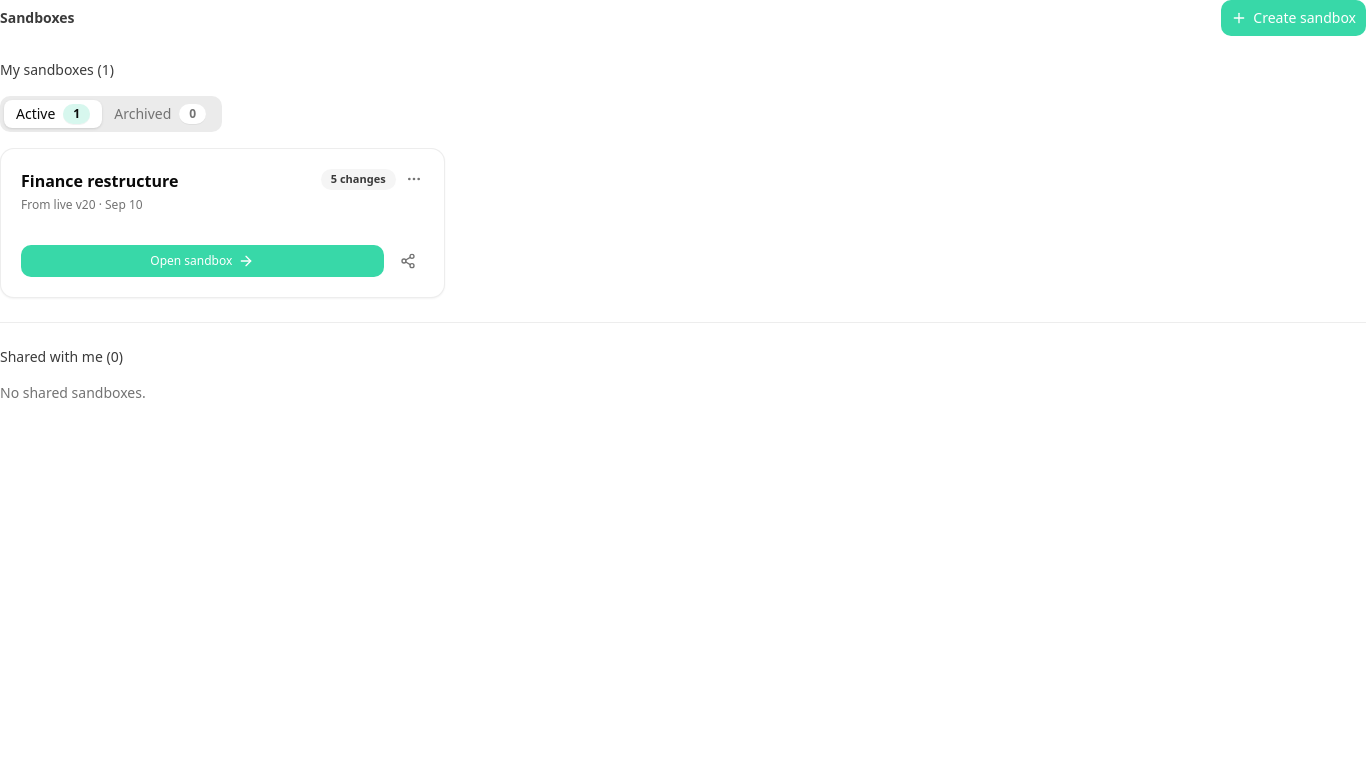
sandbox sharing › contains a transient access-loading failure and retries in place
Click the button named "Share Finance restructure": (408, 261) [392,245,424,277]
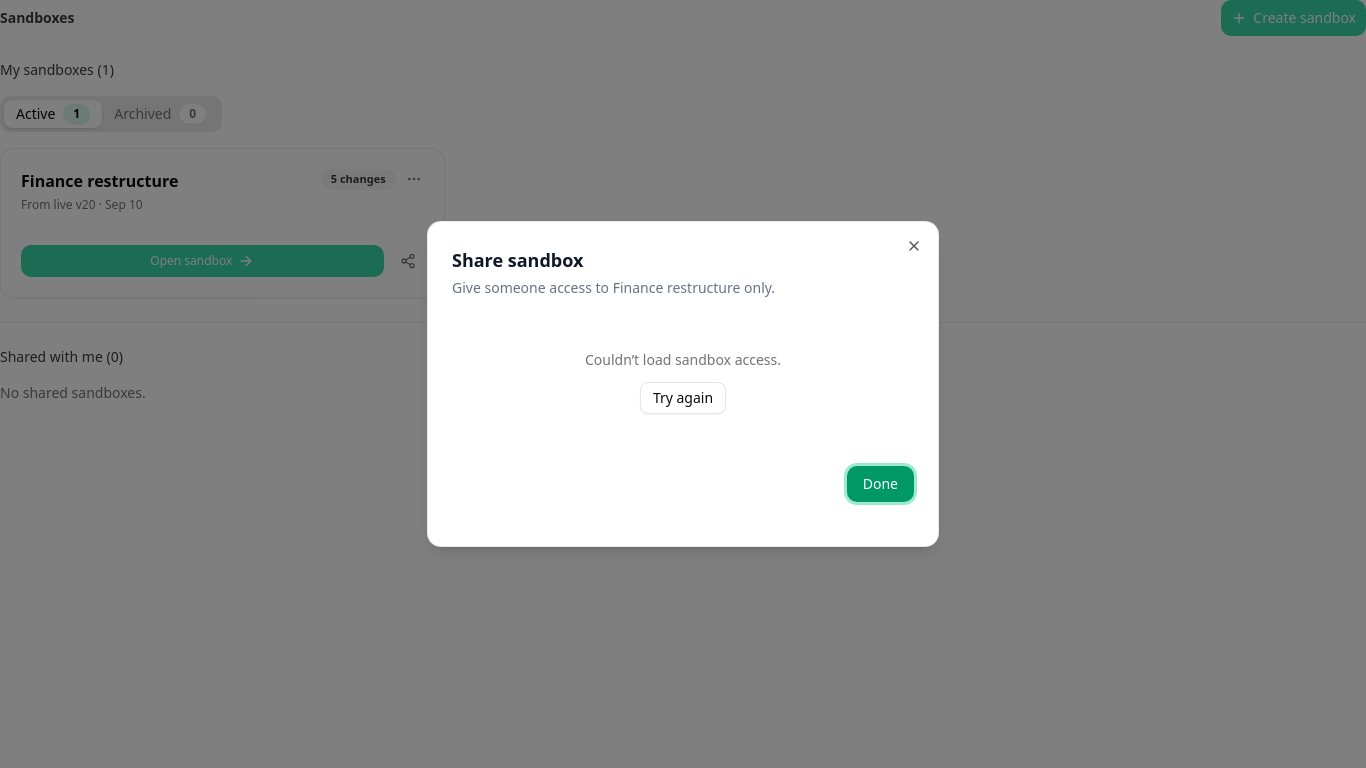
Now the text "Couldn’t load sandbox access." is shown, box [585,350,781,370]
Click the button "Try again": (683, 398) [640,382,726,414]
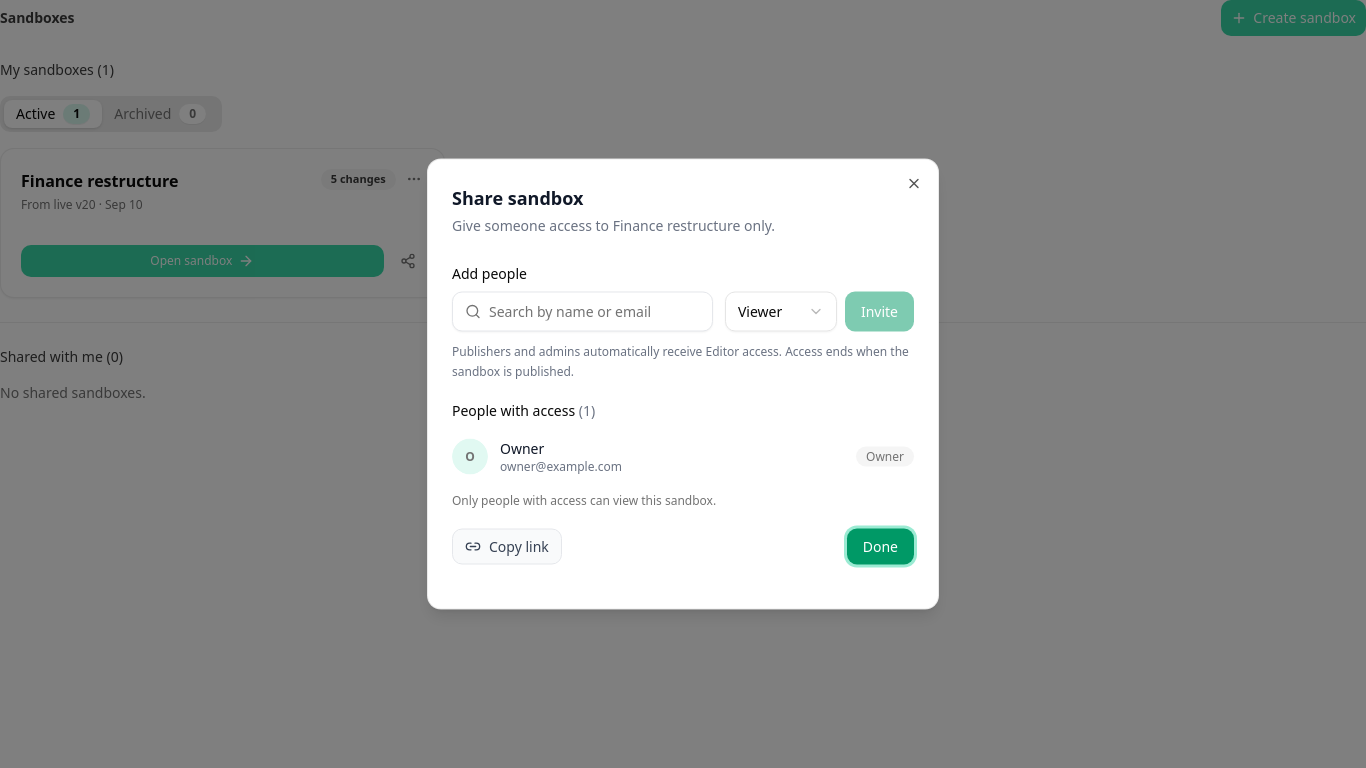
Now the dropdown labelled "Add people" is shown, box [481,302,704,322]
